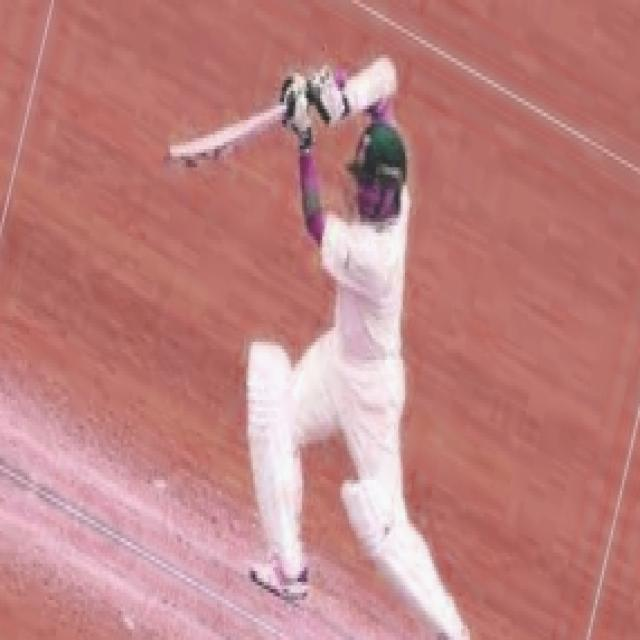bat: (172, 105, 289, 170)
toe: (160, 154, 195, 169)
